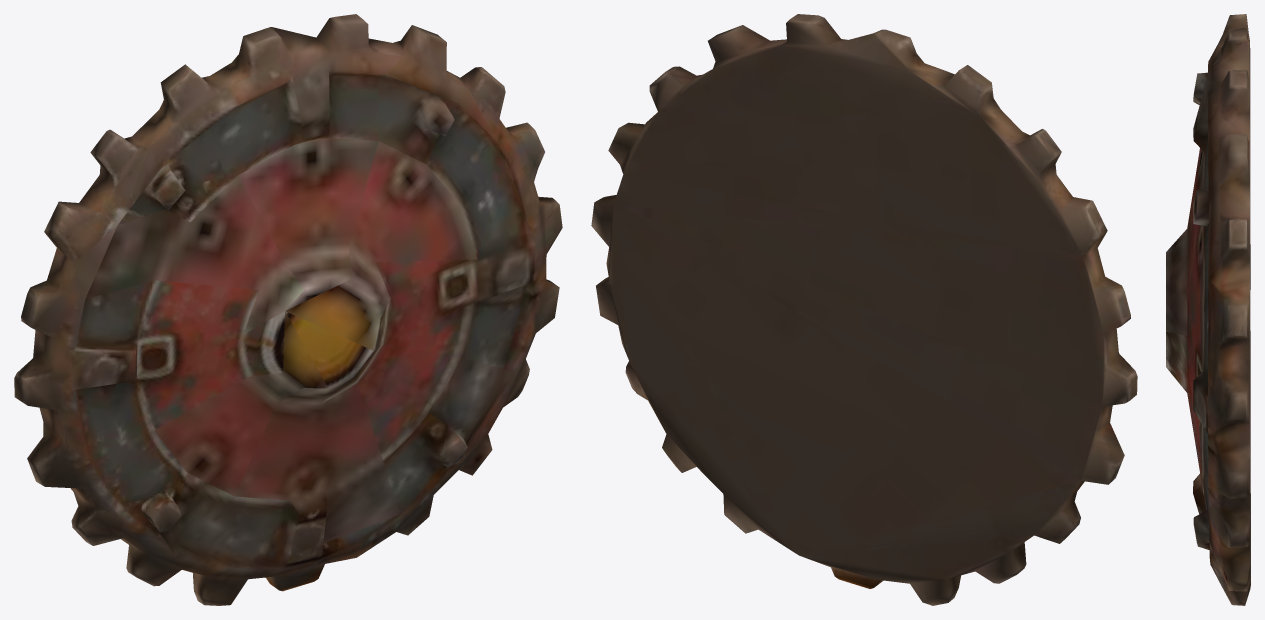
Rendered from s_shield_round_clan.fbx.
3 renders of one model, left to right at view 1: azimuth 30°, elevation 25°; view 2: azimuth 150°, elevation 25°; view 3: azimuth 270°, elevation 25°, orthographic. The views are drawn at different scales.
Visible parts, largest first — view 1: tripo_node_68089a9e-ee6a-493a-bfbe-858145985e5b; view 2: tripo_node_68089a9e-ee6a-493a-bfbe-858145985e5b; view 3: tripo_node_68089a9e-ee6a-493a-bfbe-858145985e5b.
Part boxes in pixels (x1=…): tripo_node_68089a9e-ee6a-493a-bfbe-858145985e5b: x1=14, y1=14, x2=562, y2=605; tripo_node_68089a9e-ee6a-493a-bfbe-858145985e5b: x1=591, y1=14, x2=1137, y2=605; tripo_node_68089a9e-ee6a-493a-bfbe-858145985e5b: x1=1166, y1=14, x2=1250, y2=605.
Bounding box in the file's own units: 0.78 × 0.7747 × 0.1116.
Materials: 1 (1 with a texture image).
